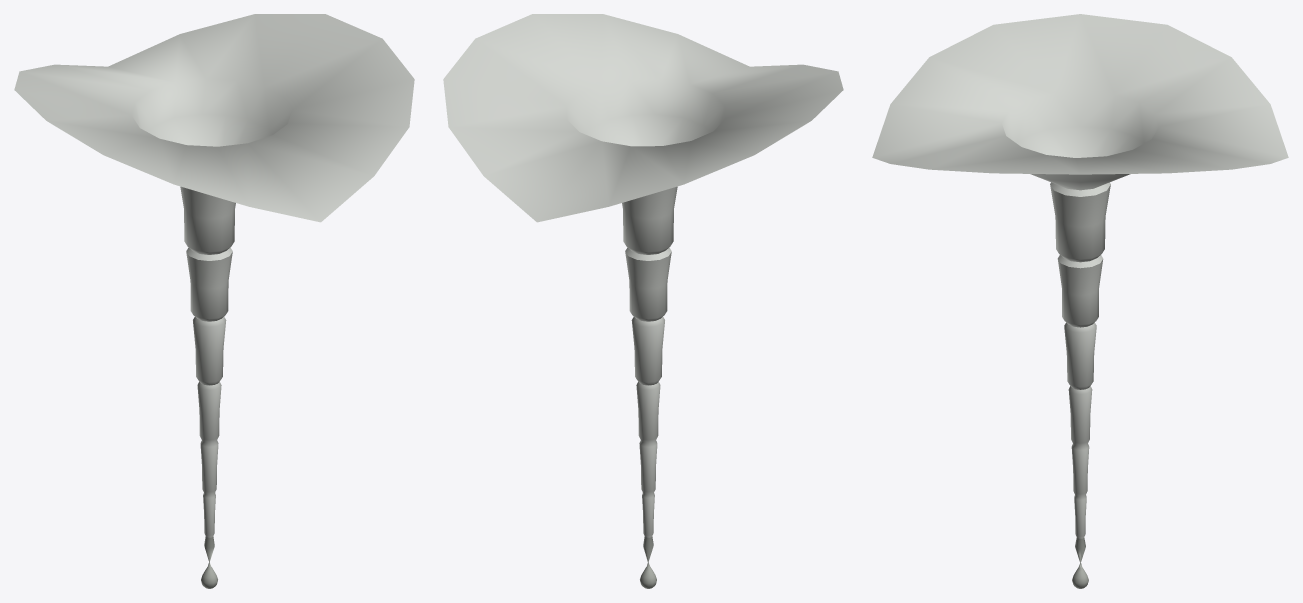
Rendered from ralph_etc.fbx.
3 views of the same model, side by side, from view 1: azimuth 30°, elevation 25°; view 2: azimuth 150°, elevation 25°; view 3: azimuth 270°, elevation 25° (orthographic). The views are drawn at different scales.
Parts seen in each view (by area): view 1: 1; view 2: 1; view 3: 1.
Boxes of the visible parts, bbox=[...] form: 1: bbox=[14, 14, 414, 588]; 1: bbox=[443, 14, 843, 588]; 1: bbox=[872, 14, 1288, 588].
Size of the model in its own units: 75.76 by 109 by 83.03.
